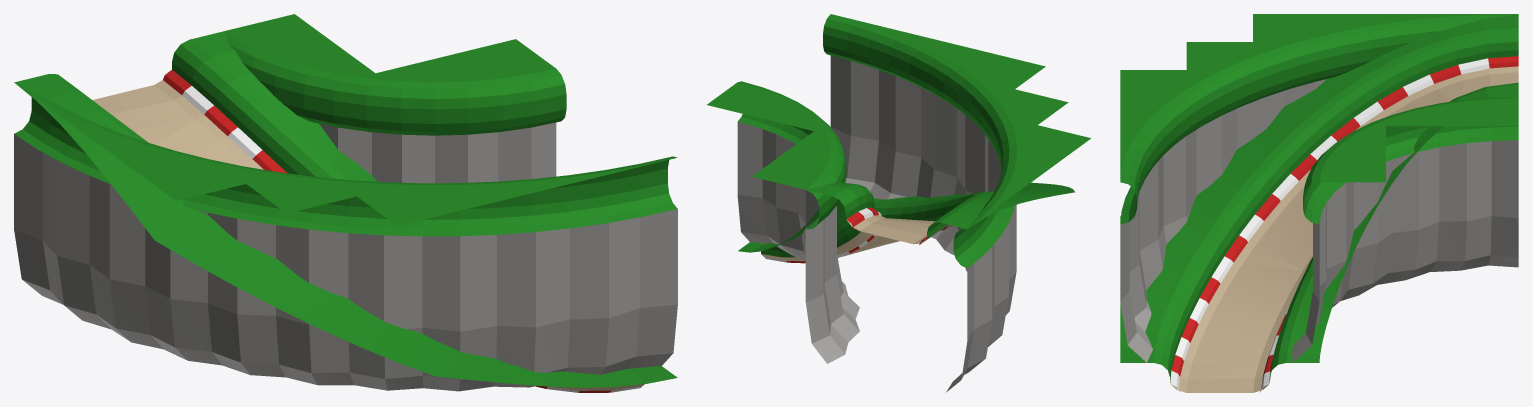
The model's file is Track_Cliff_Curve_Striped_Single_6x6.obj.
3 renders of one model, left to right at view 1: azimuth 30°, elevation 25°; view 2: azimuth 150°, elevation 25°; view 3: azimuth 270°, elevation 25°, orthographic. The views are drawn at different scales.
Visible parts, largest first — view 1: Rock, Grass, Dirt, Raceline_Color_2, Raceline_Color_1; view 2: Rock, Grass, Dirt, Raceline_Color_2; view 3: Grass, Rock, Dirt, Raceline_Color_2, Raceline_Color_1.
Boxes of the visible parts, <box> form: Rock: <box>14,122,677,391</box>; Grass: <box>14,14,677,387</box>; Dirt: <box>92,80,644,390</box>; Raceline_Color_2: <box>163,70,610,392</box>; Raceline_Color_1: <box>182,86,641,392</box>; Rock: <box>737,55,1016,392</box>; Grass: <box>707,14,1090,268</box>; Dirt: <box>761,215,948,261</box>; Raceline_Color_2: <box>786,207,952,263</box>; Grass: <box>1120,14,1518,382</box>; Rock: <box>1120,79,1518,362</box>; Dirt: <box>1170,66,1518,392</box>; Raceline_Color_2: <box>1171,56,1518,376</box>; Raceline_Color_1: <box>1170,58,1489,392</box>.
Bounding box in the file's own units: 6 × 3.5 × 6.
